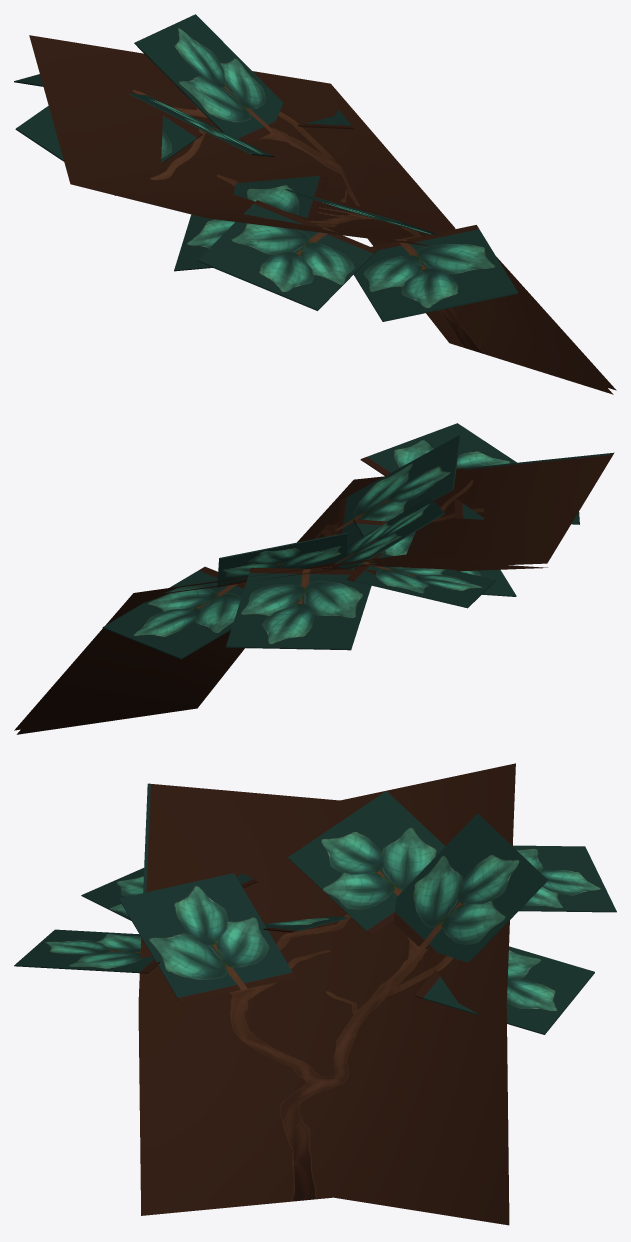
The model's file is bush_02c.fbx.
3 renders of one model, top to bottom at view 1: azimuth 30°, elevation 25°; view 2: azimuth 150°, elevation 25°; view 3: azimuth 270°, elevation 25°, orthographic. The views are drawn at different scales.
Visible parts, largest first — view 1: bush_02c; view 2: bush_02c; view 3: bush_02c.
Part boxes in pixels (left/top/right/bottom): bush_02c: left=14, top=14, right=616, bottom=394; bush_02c: left=14, top=423, right=614, bottom=734; bush_02c: left=14, top=763, right=616, bottom=1225.
Bounding box in the file's own units: 5.79 × 3.64 × 6.83.
